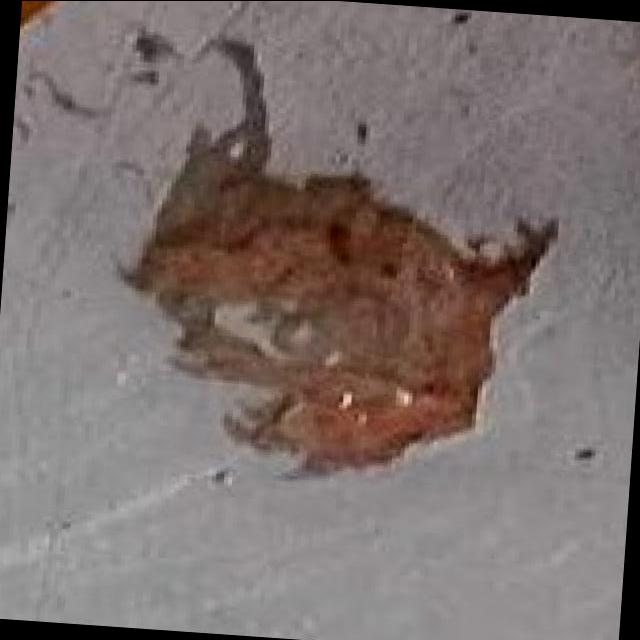General: (2, 3, 636, 638)
Infectious: (114, 35, 553, 476)
